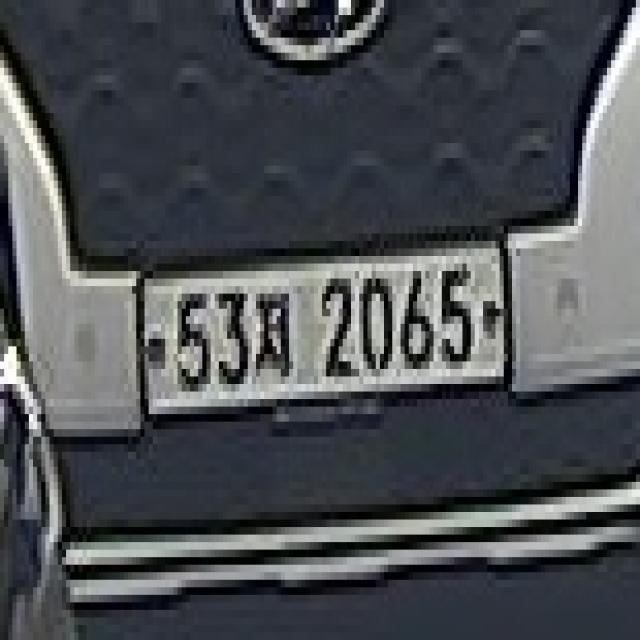0: (355, 264, 392, 376)
2: (310, 271, 359, 377)
3: (210, 271, 248, 392)
5: (442, 248, 479, 392), (173, 279, 210, 399)
6: (388, 264, 434, 384)
jeo: (248, 286, 293, 369)
license_plate: (140, 226, 520, 437)
